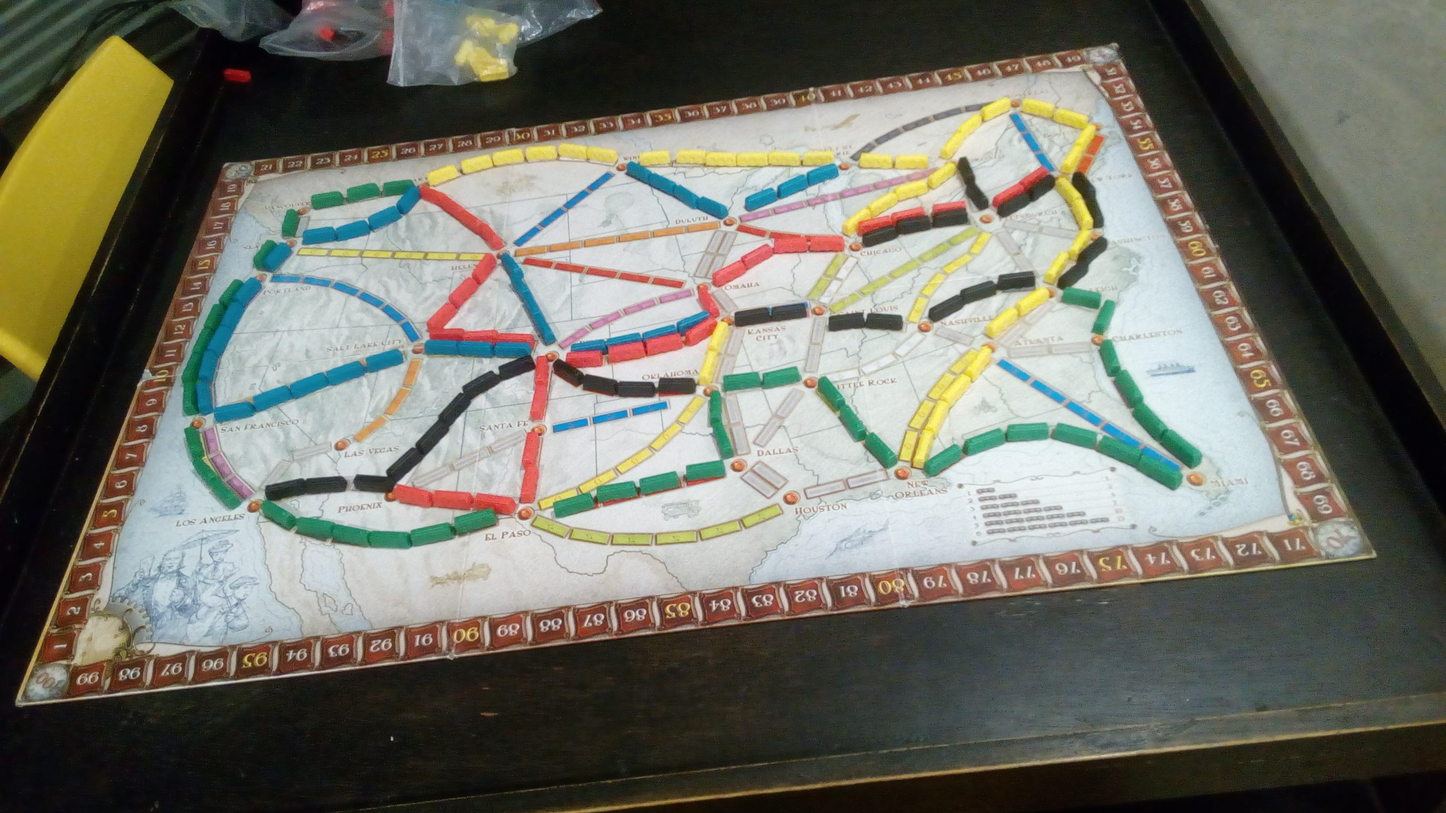black_train: (386, 447, 423, 479), (415, 422, 450, 455), (437, 394, 471, 426), (928, 294, 965, 323), (1058, 260, 1090, 289), (463, 372, 500, 397), (497, 356, 534, 380), (265, 479, 305, 501), (959, 281, 997, 304), (1077, 236, 1108, 264), (353, 474, 395, 493), (996, 193, 1029, 217), (862, 225, 898, 247), (553, 360, 583, 386), (996, 271, 1035, 291), (580, 374, 617, 395), (895, 215, 932, 236), (304, 476, 347, 494), (769, 302, 808, 321), (1029, 174, 1055, 202), (828, 312, 865, 331), (865, 312, 903, 330), (966, 181, 989, 210), (734, 307, 769, 326), (657, 377, 696, 394), (932, 209, 968, 227), (1073, 172, 1096, 200), (617, 381, 655, 397), (958, 156, 976, 184), (1086, 200, 1103, 226)
blue_train: (252, 386, 291, 411), (289, 373, 328, 398), (532, 311, 558, 347), (325, 362, 365, 385), (364, 349, 404, 371), (262, 243, 291, 272), (214, 401, 254, 422), (368, 206, 401, 231), (745, 188, 777, 211), (208, 326, 233, 355), (335, 220, 371, 240), (235, 278, 261, 305), (677, 311, 708, 333), (777, 175, 808, 197), (396, 186, 420, 214), (806, 164, 839, 184), (697, 197, 728, 218), (646, 173, 675, 195), (521, 288, 542, 318), (199, 349, 219, 380), (302, 227, 336, 245), (456, 341, 493, 357), (674, 184, 698, 208), (500, 253, 524, 277), (642, 324, 677, 340), (494, 342, 531, 357), (222, 302, 244, 327), (196, 382, 213, 414), (425, 339, 458, 355), (607, 333, 642, 348), (510, 270, 528, 298), (626, 162, 650, 181), (572, 340, 606, 351)
green_train: (1136, 456, 1182, 489), (1161, 430, 1201, 466), (1098, 436, 1141, 466), (924, 444, 963, 476), (863, 432, 897, 468), (1051, 423, 1098, 449), (1133, 405, 1167, 440), (410, 522, 455, 547), (452, 509, 497, 534), (1114, 369, 1143, 407), (964, 429, 1005, 455), (553, 493, 595, 518), (816, 377, 846, 411), (261, 500, 296, 529), (596, 481, 638, 505), (685, 460, 725, 485), (839, 405, 866, 441), (210, 479, 241, 510), (192, 457, 221, 490), (640, 472, 681, 495), (295, 517, 334, 540), (711, 420, 733, 459), (1092, 300, 1116, 335), (1099, 339, 1121, 377), (1062, 287, 1101, 308), (368, 530, 411, 549), (1006, 423, 1049, 442), (332, 524, 369, 546), (180, 351, 203, 386), (762, 367, 800, 388), (723, 372, 761, 391), (218, 280, 242, 310), (253, 239, 276, 269), (346, 183, 382, 202), (185, 426, 205, 459), (192, 327, 214, 356), (311, 191, 345, 209), (204, 302, 224, 330), (183, 380, 198, 415), (382, 179, 414, 195), (709, 390, 723, 425), (282, 210, 299, 238)
red_train: (992, 180, 1025, 210), (472, 493, 517, 514), (428, 302, 457, 334), (391, 485, 433, 507), (683, 317, 716, 344), (713, 260, 746, 287), (607, 341, 645, 364), (449, 277, 478, 306), (645, 333, 683, 355), (520, 463, 540, 502), (458, 210, 487, 236), (433, 490, 472, 509), (741, 245, 772, 268), (472, 255, 496, 284), (566, 350, 604, 368), (522, 432, 541, 468), (420, 186, 450, 208), (859, 215, 892, 234), (892, 206, 925, 225), (698, 290, 720, 318), (530, 385, 548, 419), (1021, 166, 1050, 187), (809, 235, 844, 252), (773, 235, 806, 253), (481, 225, 504, 249), (496, 333, 534, 347), (931, 201, 967, 215), (442, 197, 465, 218), (534, 356, 549, 387), (462, 330, 497, 342), (431, 328, 464, 340)
yellow_train: (1015, 288, 1051, 316), (985, 307, 1018, 337), (942, 375, 972, 405), (940, 129, 968, 161), (912, 429, 935, 467), (965, 347, 992, 379), (842, 207, 873, 234), (1053, 106, 1089, 129), (980, 96, 1011, 121), (1044, 252, 1068, 284), (1056, 177, 1083, 205), (927, 163, 956, 188), (1061, 144, 1084, 175), (428, 165, 460, 187), (1073, 198, 1095, 230), (870, 192, 898, 217), (925, 402, 946, 434), (895, 180, 928, 200), (1068, 230, 1091, 258), (1074, 122, 1097, 149), (1021, 99, 1055, 117), (461, 155, 492, 174), (958, 113, 983, 136), (491, 149, 524, 166), (858, 152, 892, 168), (638, 150, 670, 166), (587, 146, 617, 163), (675, 149, 706, 165), (895, 154, 928, 169), (525, 146, 557, 161), (768, 151, 800, 166), (558, 143, 586, 159), (802, 151, 834, 165), (705, 152, 736, 166), (737, 152, 768, 166)
